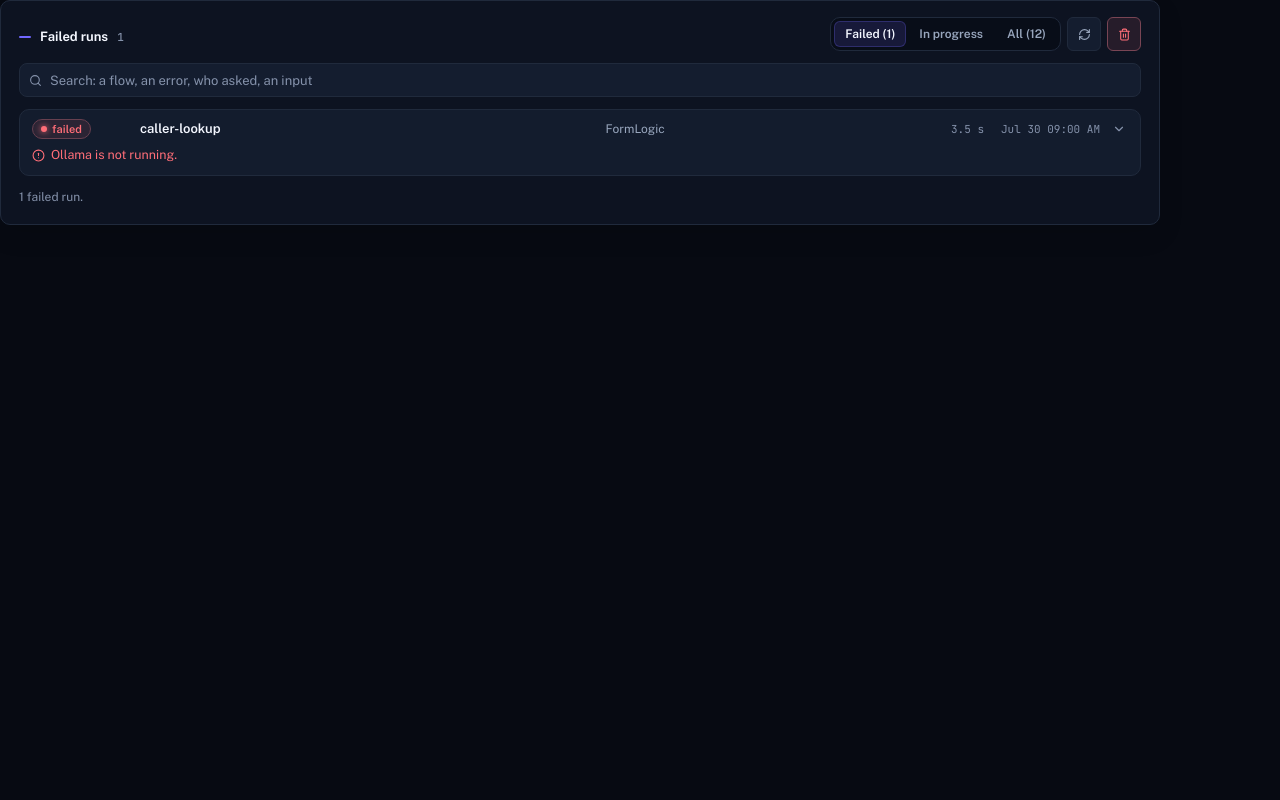
it: RunsPanel › does not offer to run again a run whose flow is no longer here
Click the button with class "run-head" at [61, 129], box [20,110,1130,148]
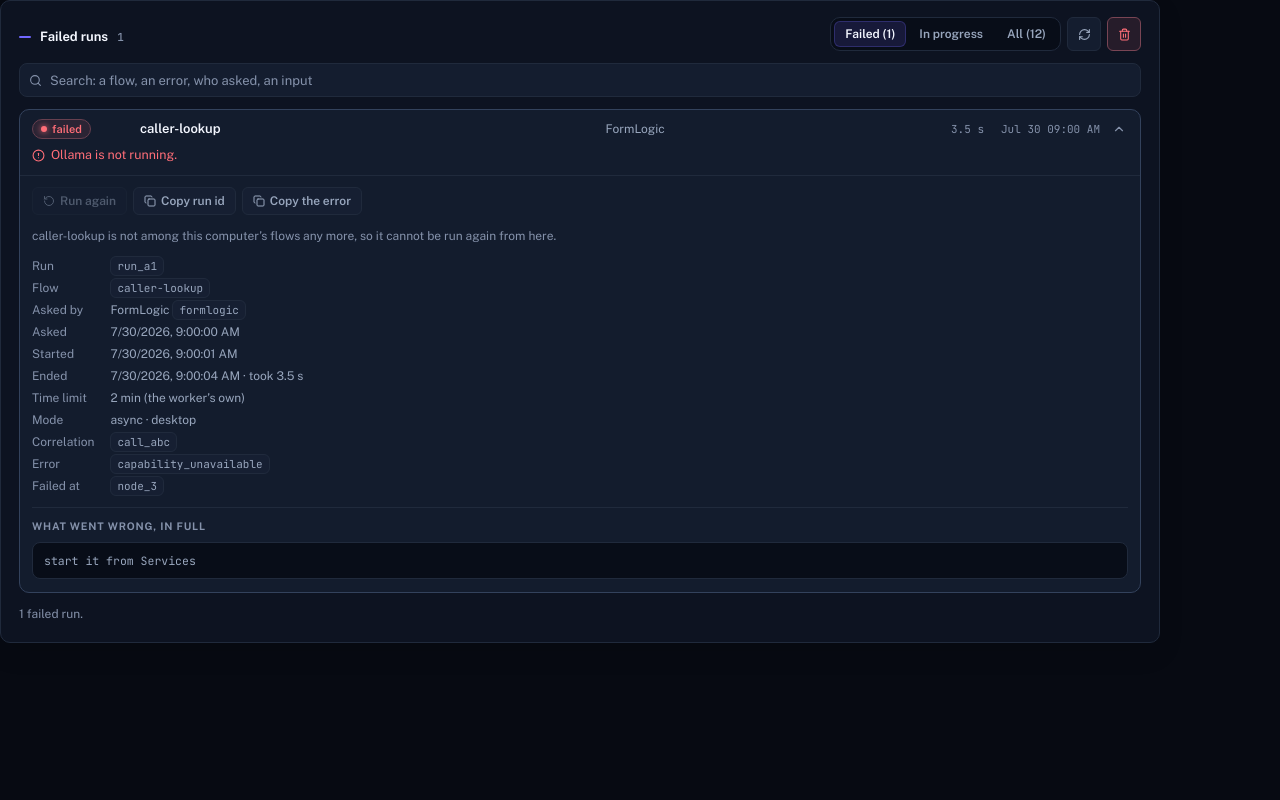
Expected: the button "Run again" is disabled, [32,187,127,215]
